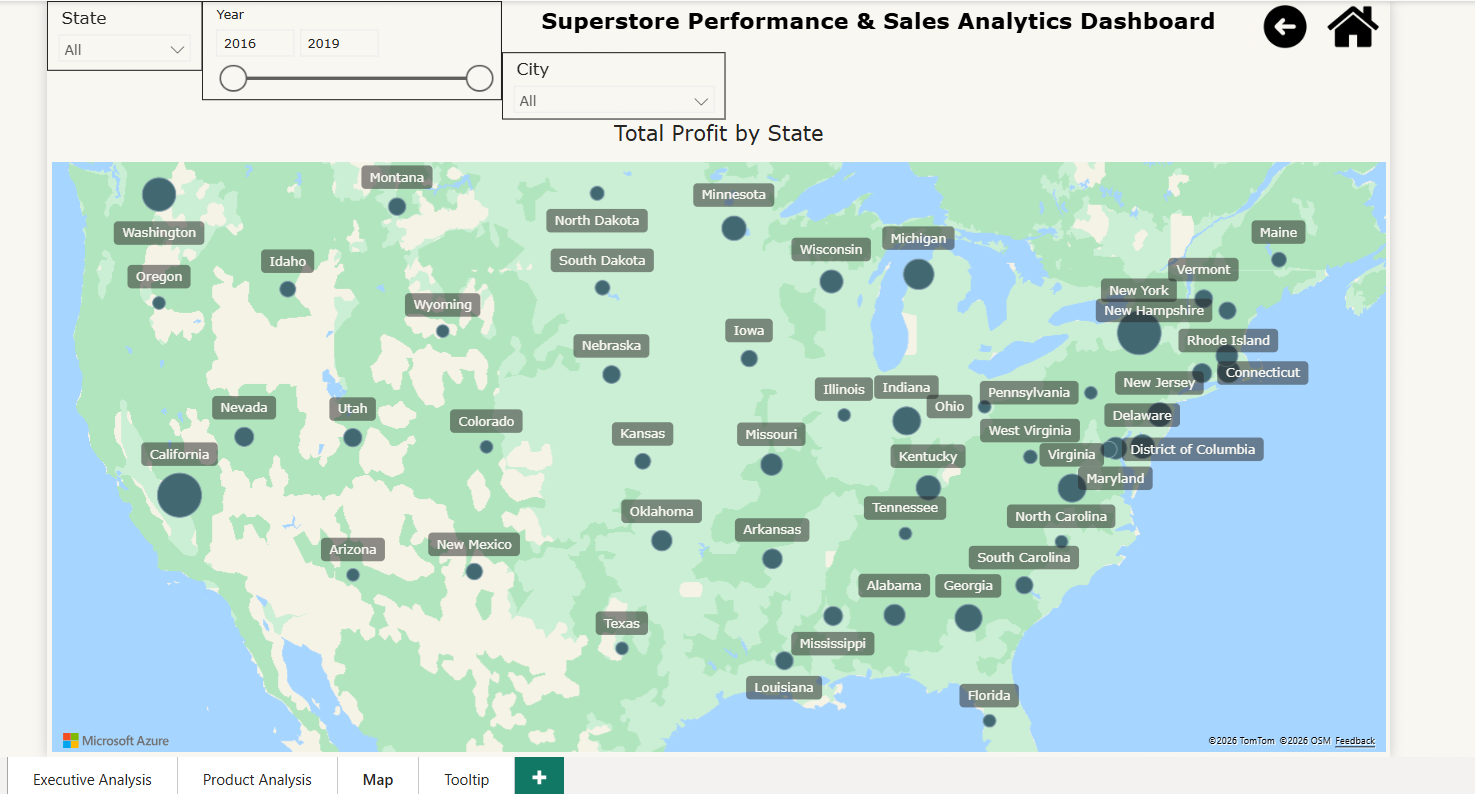

Layout of this report page (visuals, bound fields, positions):
{"tool":"powerbi","page":{"name":"Map","canvas":[1280,720],"ordinal":2},"visuals":[{"type":"azureMap","fields":{"Category":["Orders.State","Orders.City"],"Size":["Matrix.total_profit"]},"box":[0,113.1,1279.8,607.1],"z":0},{"type":"image","box":[1208.3,0,71.4,48.8],"z":1000},{"type":"image","box":[1150,0,58.3,48.8],"z":2000},{"type":"slicer","fields":{"Values":["Orders.State"]},"box":[0,0,147.6,66.7],"z":3000},{"type":"slicer","fields":{"Values":["Orders.Order Date.Variation.Date Hierarchy.Year"]},"box":[147.1,0,285.7,94.3],"z":4000},{"type":"textbox","box":[432.9,0,717.1,48.6],"z":5000},{"type":"slicer","fields":{"Values":["Orders.City"]},"box":[433.3,48.8,213.1,64.3],"z":6000}]}

Visuals, with their boxes on the page's 1280x720 design canvas (x1, y1, x2, y2). These are canvas units, not pixel positions in the 1475x794 screenshot, which may show the page scaled, cropped or inside an application window:
azureMap - Orders.State x Orders.City: [0, 113, 1280, 720]
image: [1208, 0, 1280, 49]
image: [1150, 0, 1208, 49]
slicer - Orders.State: [0, 0, 148, 67]
slicer - Orders.Order Date.Variation.Date Hierarchy.Year: [147, 0, 433, 94]
textbox: [433, 0, 1150, 49]
slicer - Orders.City: [433, 49, 646, 113]
